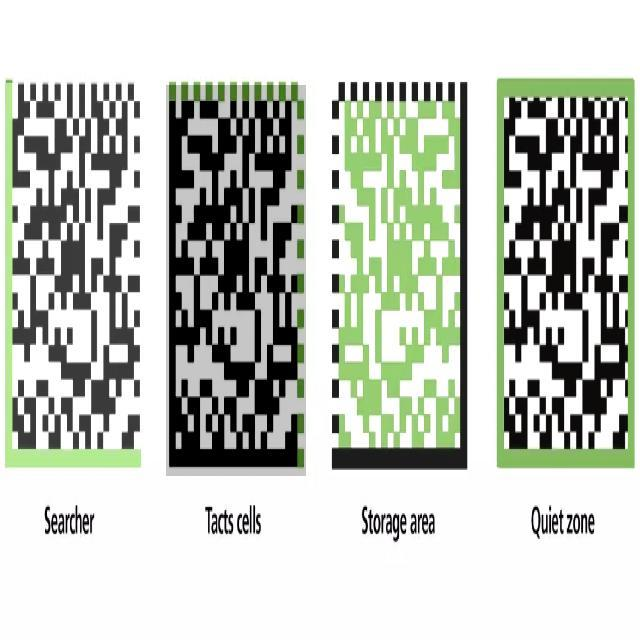Data-Matrix: (496, 71, 637, 477), (330, 77, 470, 478), (166, 85, 306, 476), (6, 83, 141, 470)
